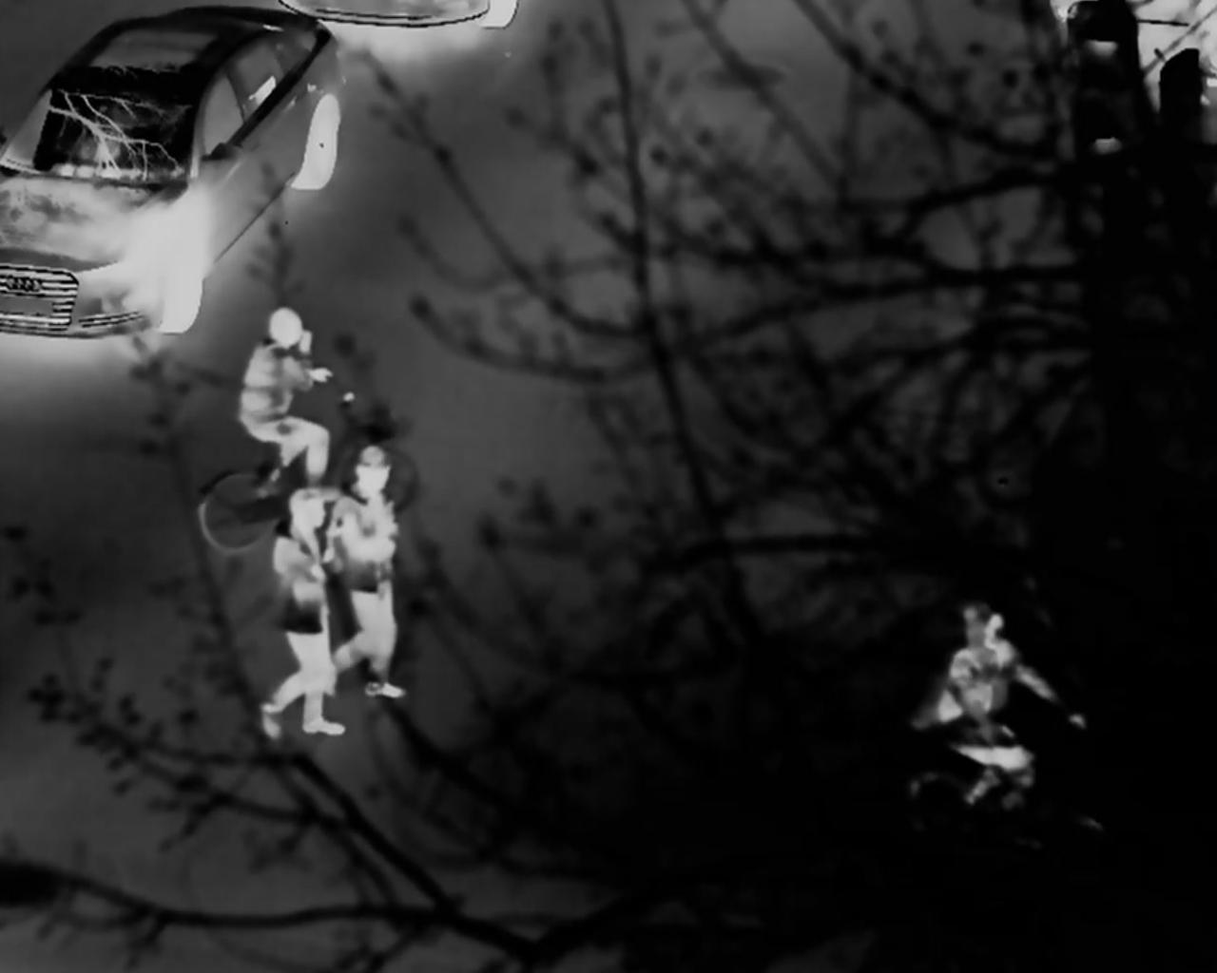person: (932, 606, 1084, 820), (264, 494, 350, 736), (330, 449, 407, 711), (250, 301, 331, 494)
